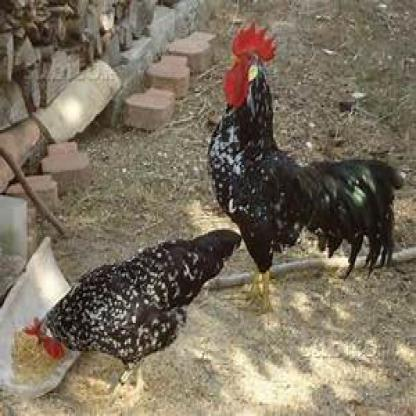chicken: (206, 21, 400, 313), (24, 225, 241, 393)
